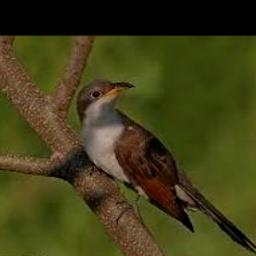Cuckoo: (76, 80, 256, 253)
